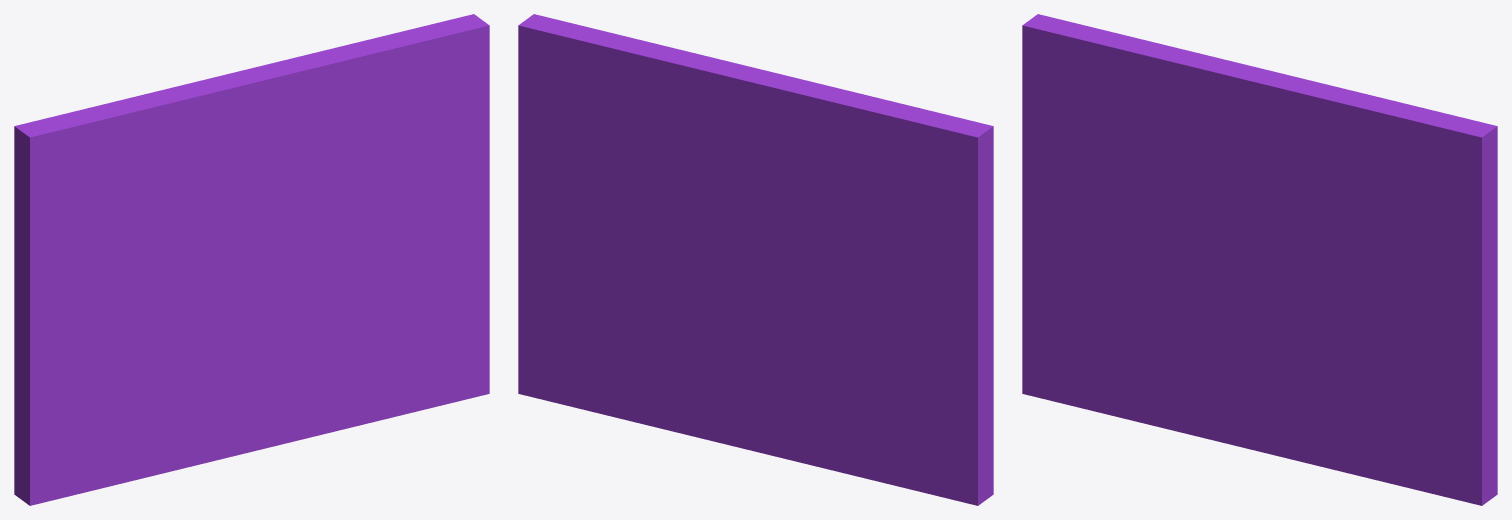
File: Barrier_171_chunks.fbx
The picture shows the model from 3 angles, left to right: view 1: azimuth 30°, elevation 25°; view 2: azimuth 150°, elevation 25°; view 3: azimuth 330°, elevation 25°; orthographic projection.
Parts seen in each view (by area): view 1: Barrier_171_2, Barrier_171_0, Barrier_171_6, Barrier_171_4, Barrier_171_3, Barrier_171_1; view 2: Barrier_171_2, Barrier_171_0, Barrier_171_6, Barrier_171_4, Barrier_171_5, Barrier_171_3; view 3: Barrier_171_0, Barrier_171_2, Barrier_171_4, Barrier_171_6, Barrier_171_3, Barrier_171_1.
Part boxes in pixels (x1,y1,x2,y2): Barrier_171_2: [14, 69, 258, 463]; Barrier_171_0: [247, 14, 489, 348]; Barrier_171_6: [14, 330, 256, 505]; Barrier_171_4: [240, 305, 489, 454]; Barrier_171_3: [183, 272, 375, 384]; Barrier_171_1: [240, 75, 289, 278]; Barrier_171_2: [746, 72, 993, 470]; Barrier_171_0: [518, 14, 754, 359]; Barrier_171_6: [748, 321, 993, 505]; Barrier_171_4: [518, 321, 762, 453]; Barrier_171_5: [619, 274, 789, 391]; Barrier_171_3: [741, 270, 806, 333]; Barrier_171_0: [1261, 70, 1497, 460]; Barrier_171_2: [1022, 14, 1269, 351]; Barrier_171_4: [1232, 362, 1497, 505]; Barrier_171_6: [1022, 292, 1248, 444]; Barrier_171_3: [1175, 269, 1368, 383]; Barrier_171_1: [1232, 78, 1282, 286].
Bounding box in the file's own units: 376 × 288 × 22.1.
